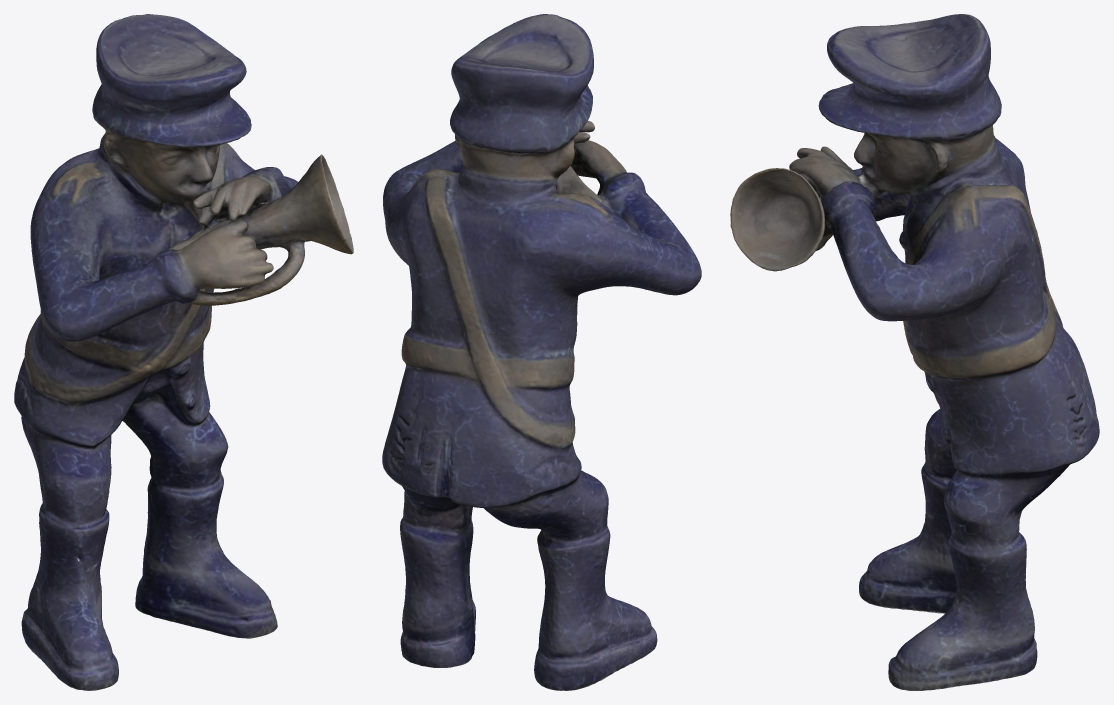
The model's file is khanna-untitled-horn-player.glb.
The picture shows the model from 3 angles, left to right: view 1: azimuth 30°, elevation 25°; view 2: azimuth 150°, elevation 25°; view 3: azimuth 270°, elevation 25°; orthographic projection. The views are drawn at different scales.
Parts seen in each view (by area): view 1: 11_Krishna_Khanna_For Final; view 2: 11_Krishna_Khanna_For Final; view 3: 11_Krishna_Khanna_For Final.
Part boxes in pixels (x1=…): 11_Krishna_Khanna_For Final: x1=14, y1=14, x2=353, y2=690; 11_Krishna_Khanna_For Final: x1=382, y1=14, x2=701, y2=690; 11_Krishna_Khanna_For Final: x1=730, y1=14, x2=1099, y2=690.
Size of the model in its own units: 18.44 by 35.42 by 19.46.
1 material, 1 textured.
